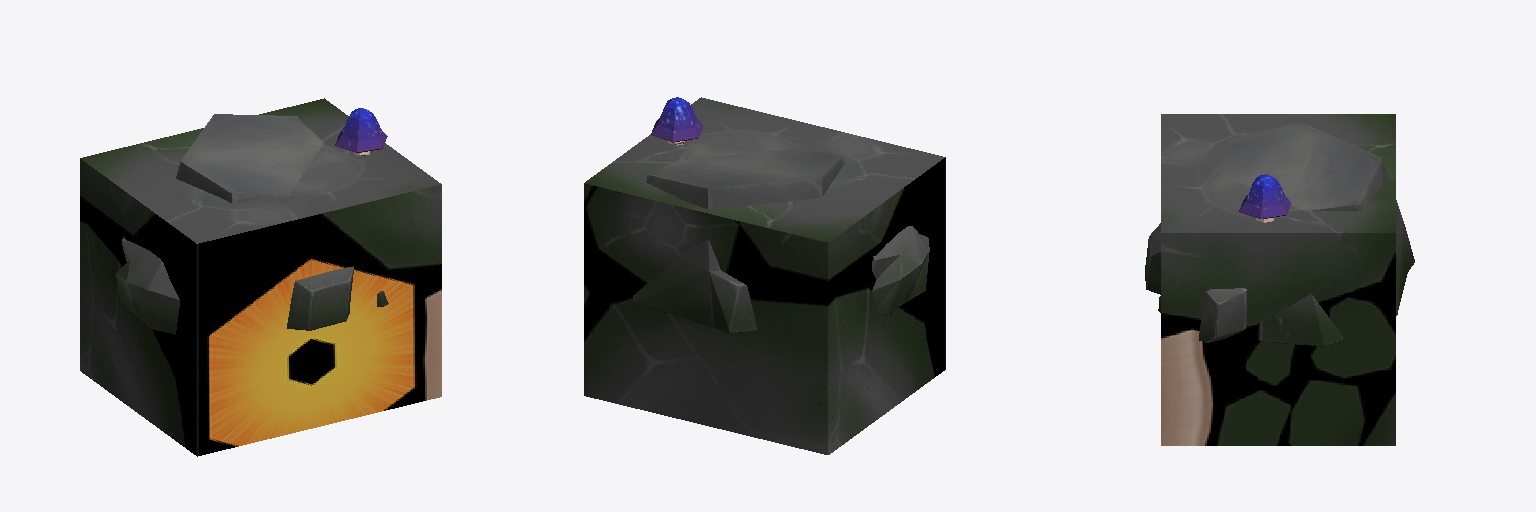
The picture shows the model from 3 angles: view 1: azimuth 30°, elevation 25°; view 2: azimuth 150°, elevation 25°; view 3: azimuth 270°, elevation 25°; orthographic projection.
Parts seen in each view (by area): view 1: ColliderBox, 1; view 2: ColliderBox, 1; view 3: ColliderBox, 1.
Boxes of the visible parts, <box> form: ColliderBox: <box>80,98,441,456</box>; 1: <box>116,108,388,334</box>; ColliderBox: <box>584,97,945,454</box>; 1: <box>631,97,929,333</box>; ColliderBox: <box>1161,114,1395,445</box>; 1: <box>1145,122,1414,346</box>.
Bounding box in the file's own units: 24.31 × 21.08 × 20.13.
1 materials, 1 textured.